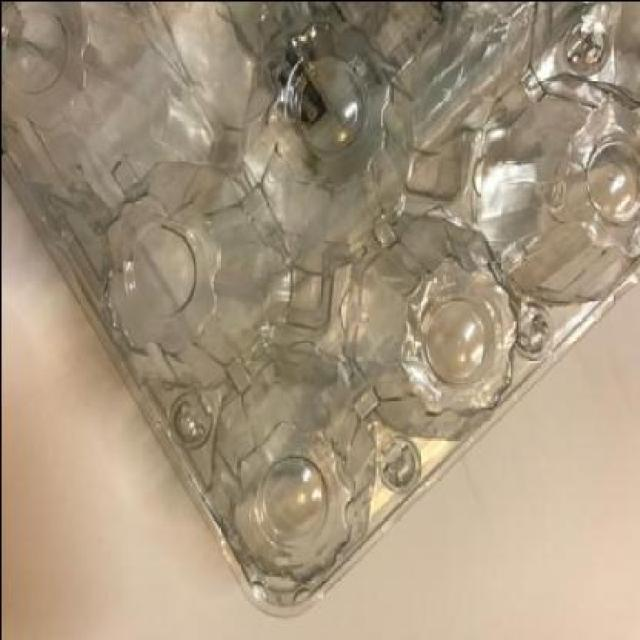PLASTIC: (0, 1, 638, 618)
